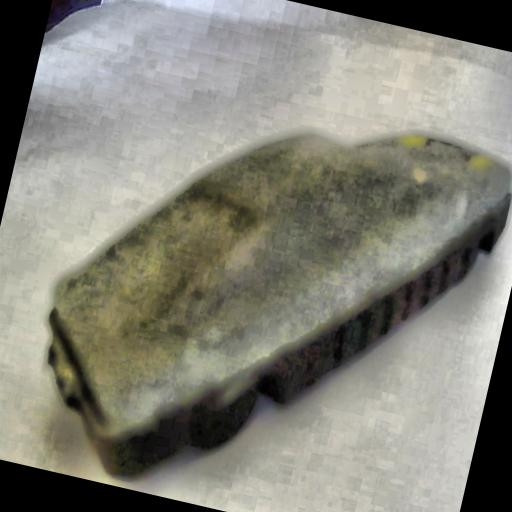normal_car: (15, 61, 512, 512)
